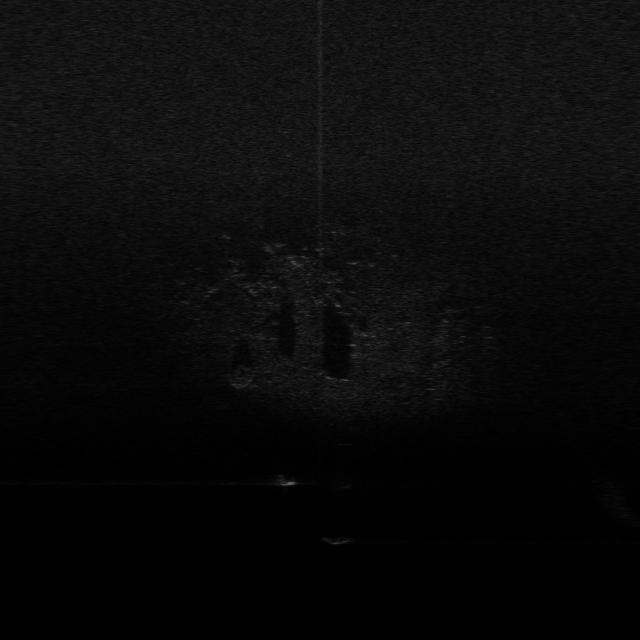cube: (320, 534, 354, 547)
square cage: (270, 471, 300, 487)
